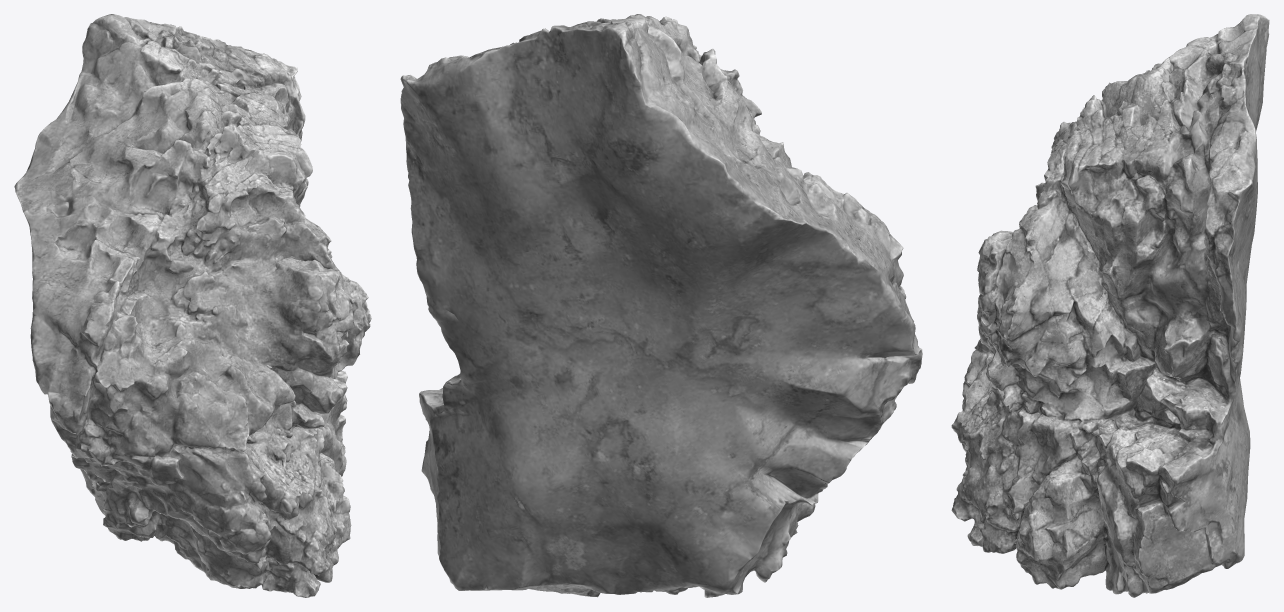
File: boulder-hero.glb
3 views of the same model, side by side, from view 1: azimuth 30°, elevation 25°; view 2: azimuth 150°, elevation 25°; view 3: azimuth 270°, elevation 25° (orthographic). The views are drawn at different scales.
Parts seen in each view (by area): view 1: boulder_01; view 2: boulder_01; view 3: boulder_01.
Part boxes in pixels (box(x1,y1,x2,y2)): boulder_01: box(14, 14, 371, 597); boulder_01: box(400, 14, 922, 597); boulder_01: box(951, 14, 1269, 597).
Size of the model in its own units: 1.27 by 1.83 by 1.
Materials: 1 (1 with a texture image).
